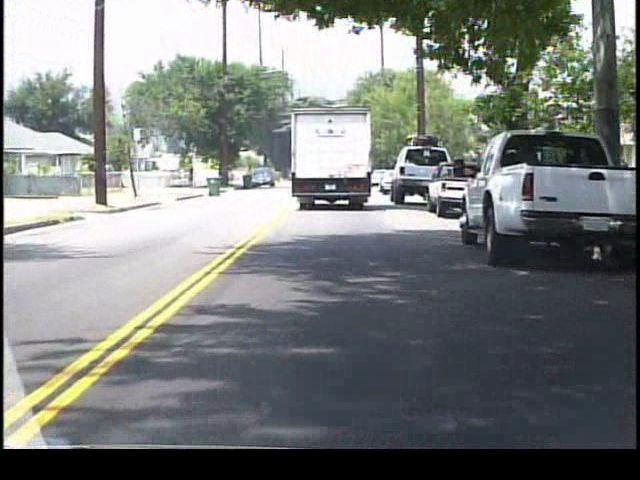person: (617, 156, 628, 204), (188, 163, 197, 187)
